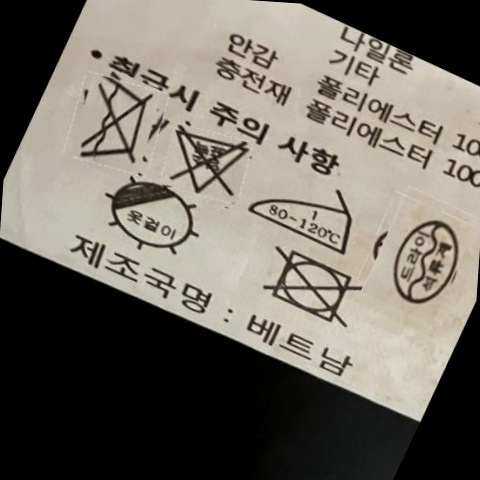DN_tumble_dry: (262, 248, 361, 328)
DN_wash: (75, 79, 162, 164)
dry_clean_petrol_only: (385, 214, 467, 309)
iron_low: (241, 178, 365, 256)
line_dry_in_shade: (104, 176, 207, 256)
non_chlorine_bleach: (168, 130, 253, 197)
